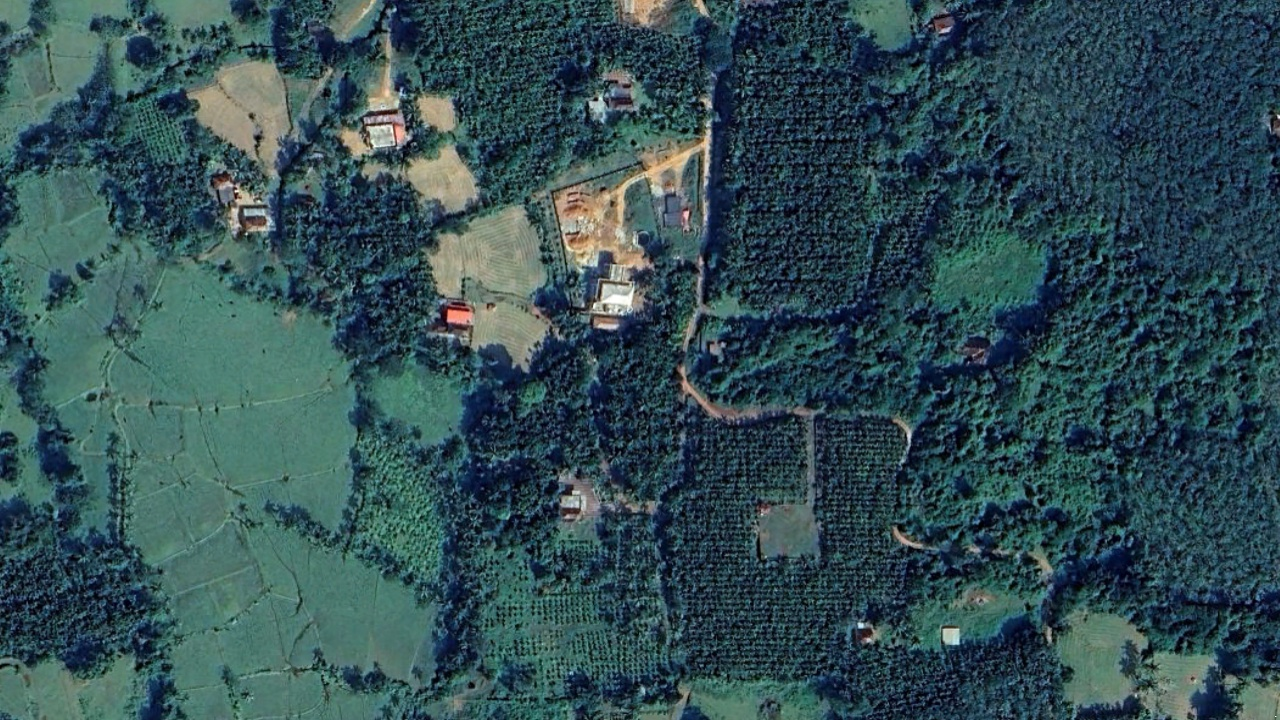arecanut: (682, 412, 915, 683), (398, 1, 705, 192), (723, 46, 900, 321), (846, 631, 1037, 720)
